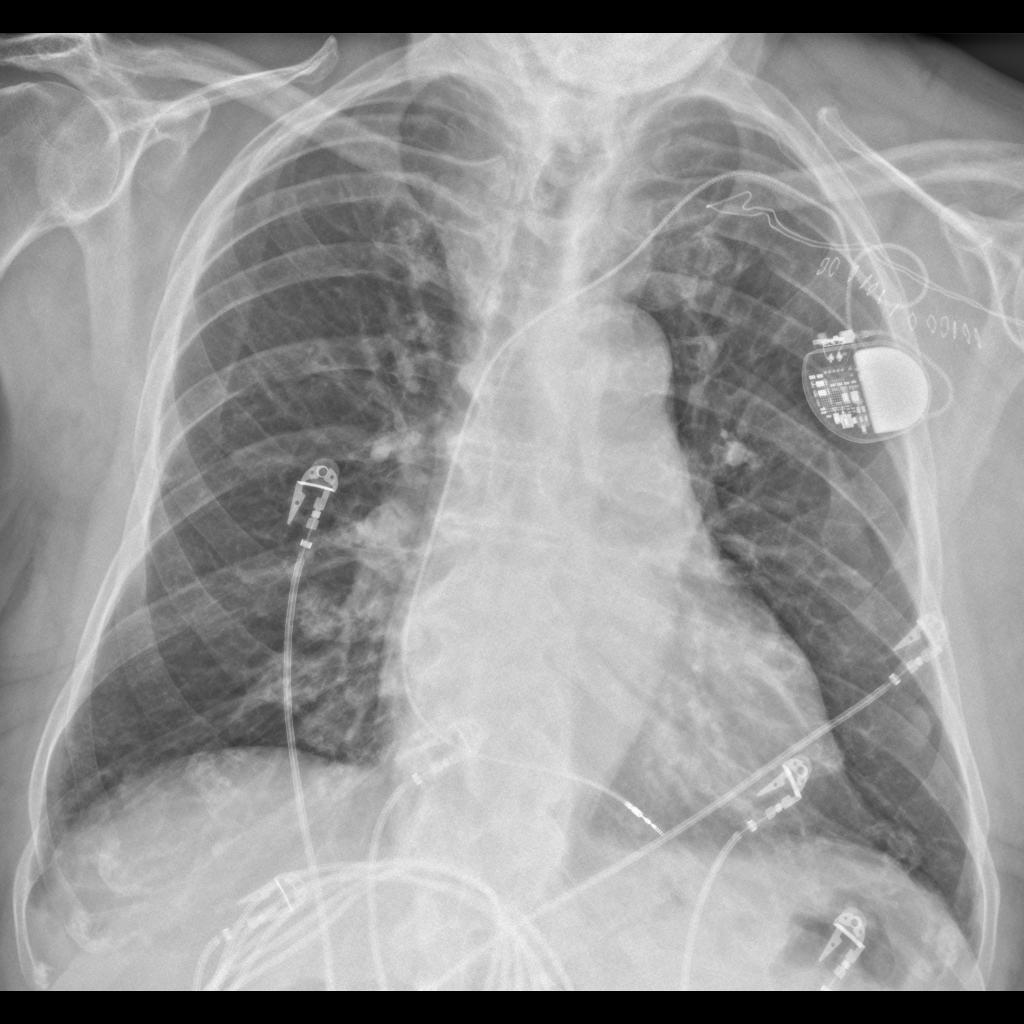Nodule: (894, 700, 941, 764)
